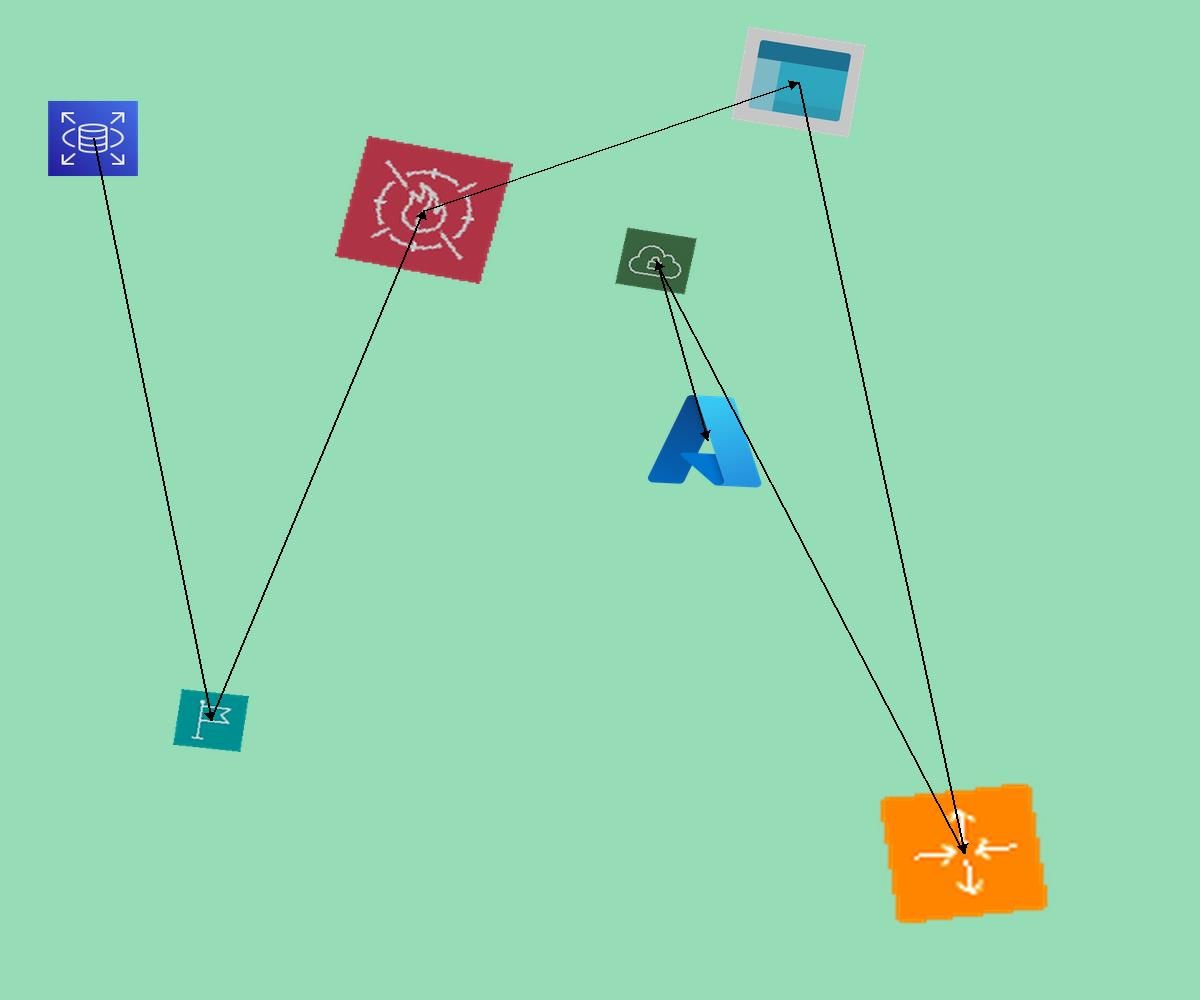AWS-Private_vpc: (615, 227, 697, 295)
AWS-RDS: (47, 100, 139, 177)
AWS-Region: (173, 689, 249, 752)
AWS-Scaling-group: (877, 781, 1051, 926)
AWS-WAF: (335, 136, 513, 284)
Azure_management-portal: (731, 26, 866, 138)
Azure_services: (642, 386, 773, 495)
